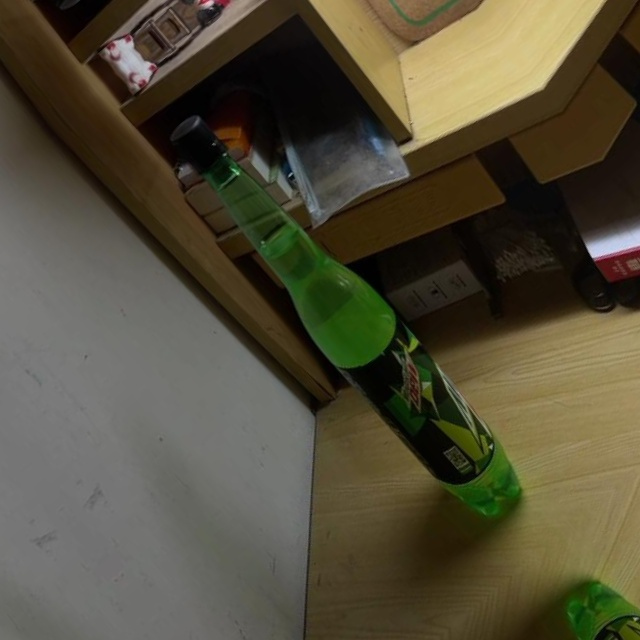Mountain-Dew: (151, 95, 542, 539)
